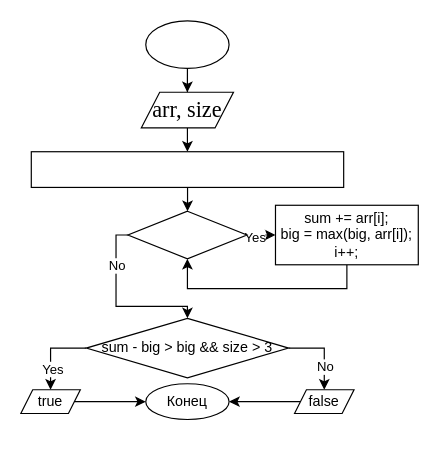
This 439x450 diagram has some shape labels left out. Each missing label, with the centre of its shape:
i < size: the point at 187,234
unsigned sum = 0, big = 0, i = 0;: the point at 187,169
Начало: the point at 187,44
